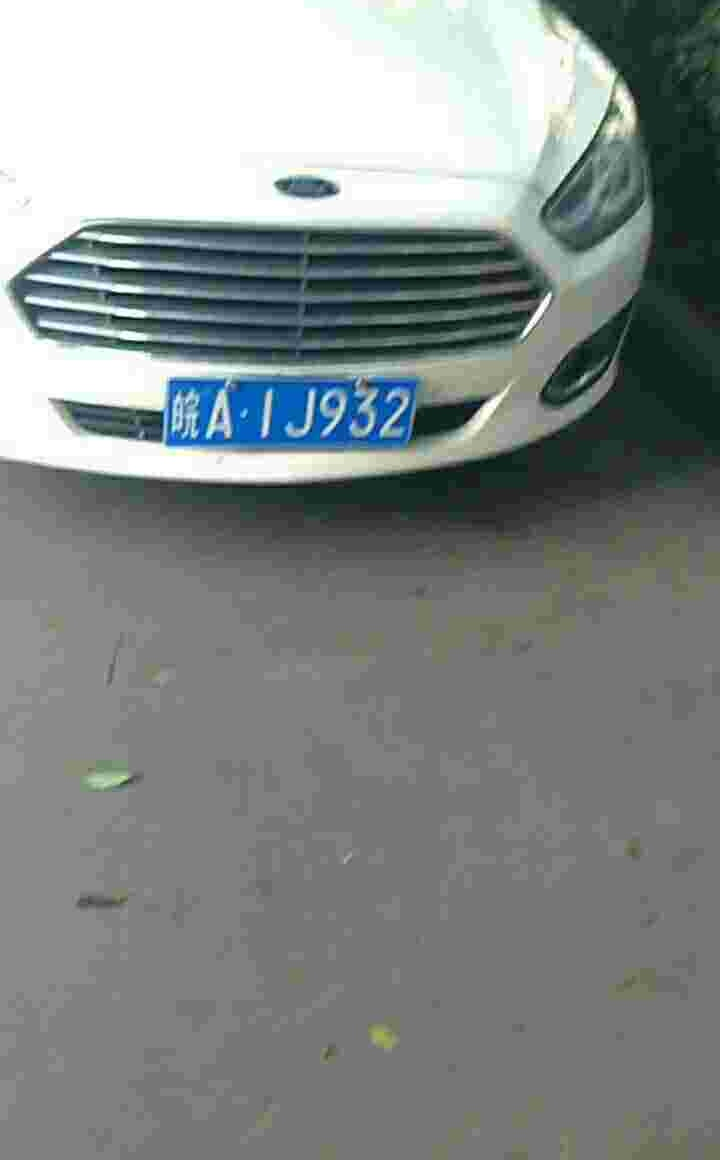license_plate: (158, 378, 404, 453)
